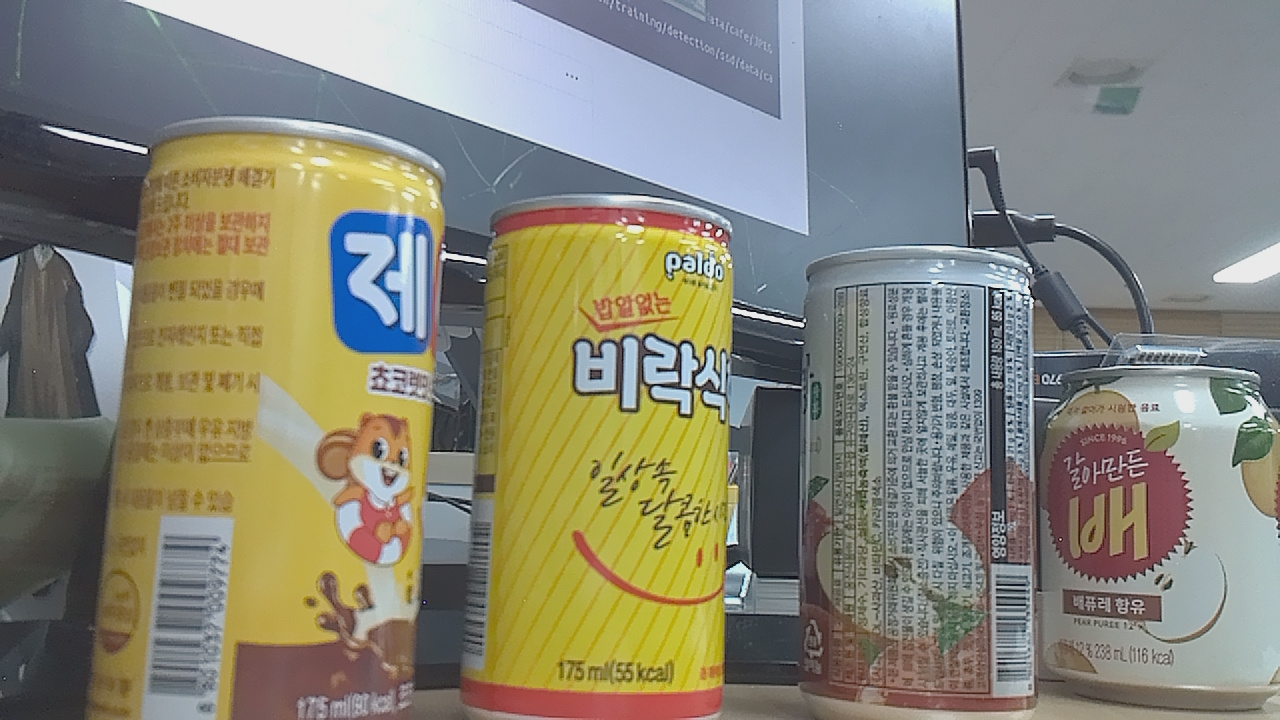IdH (pear juice): (1049, 352, 1280, 717)
jetty: (111, 112, 463, 720)
mylove apple: (797, 246, 1045, 720)
paldo shikhye: (466, 181, 742, 720)
